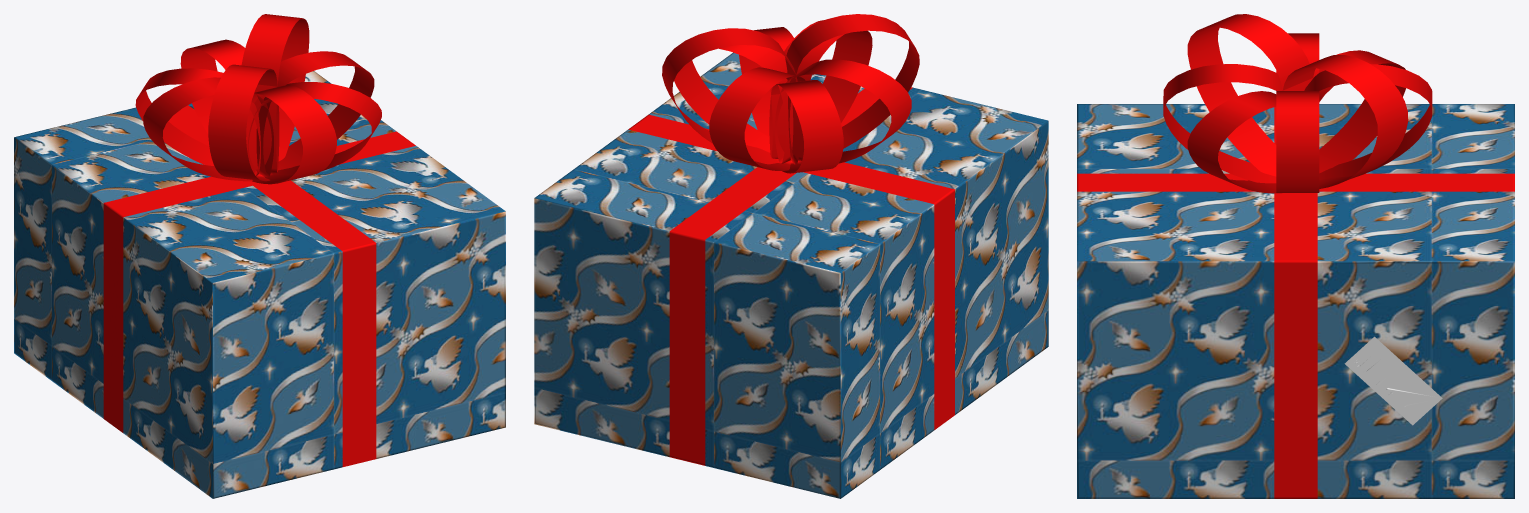
3 views of the same model, side by side, from view 1: azimuth 30°, elevation 25°; view 2: azimuth 150°, elevation 25°; view 3: azimuth 270°, elevation 25° (orthographic). The views are drawn at different scales.
Parts seen in each view (by area): view 1: Mesh28_Group30_Group1_Model; view 2: Mesh28_Group30_Group1_Model; view 3: Mesh28_Group30_Group1_Model.
Part boxes in pixels (<box>): Mesh28_Group30_Group1_Model: <box>14,14,505,498</box>; Mesh28_Group30_Group1_Model: <box>534,14,1048,498</box>; Mesh28_Group30_Group1_Model: <box>1077,14,1514,498</box>.
Bounding box in the file's own units: 1.19 × 1.32 × 1.4.
11 materials, 1 textured.
